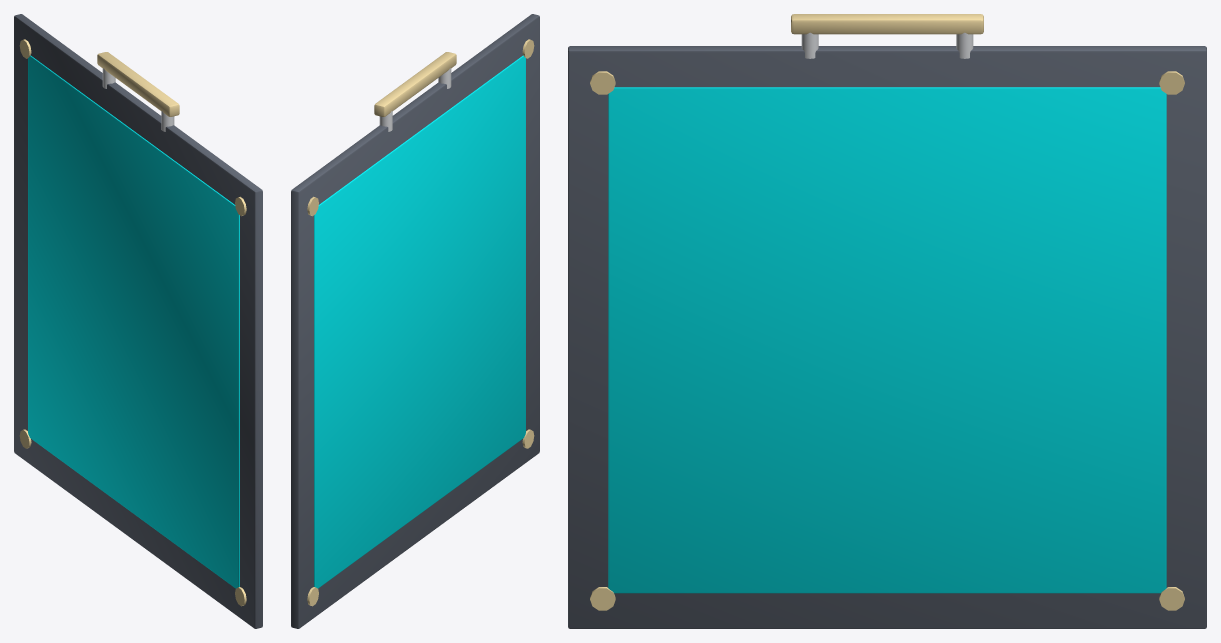
Rendered from chamber_divider.glb.
3 renders of one model, left to right at view 1: azimuth 30°, elevation 25°; view 2: azimuth 150°, elevation 25°; view 3: azimuth 270°, elevation 25°, orthographic. The views are drawn at different scales.
Visible parts, largest first — view 1: Cube; view 2: Cube; view 3: Cube.
Boxes of the visible parts, <box> form: Cube: <box>14,14,262,628</box>; Cube: <box>291,14,539,628</box>; Cube: <box>568,14,1206,628</box>.
Bounding box in the file's own units: 0.18 × 6.27 × 5.95.
